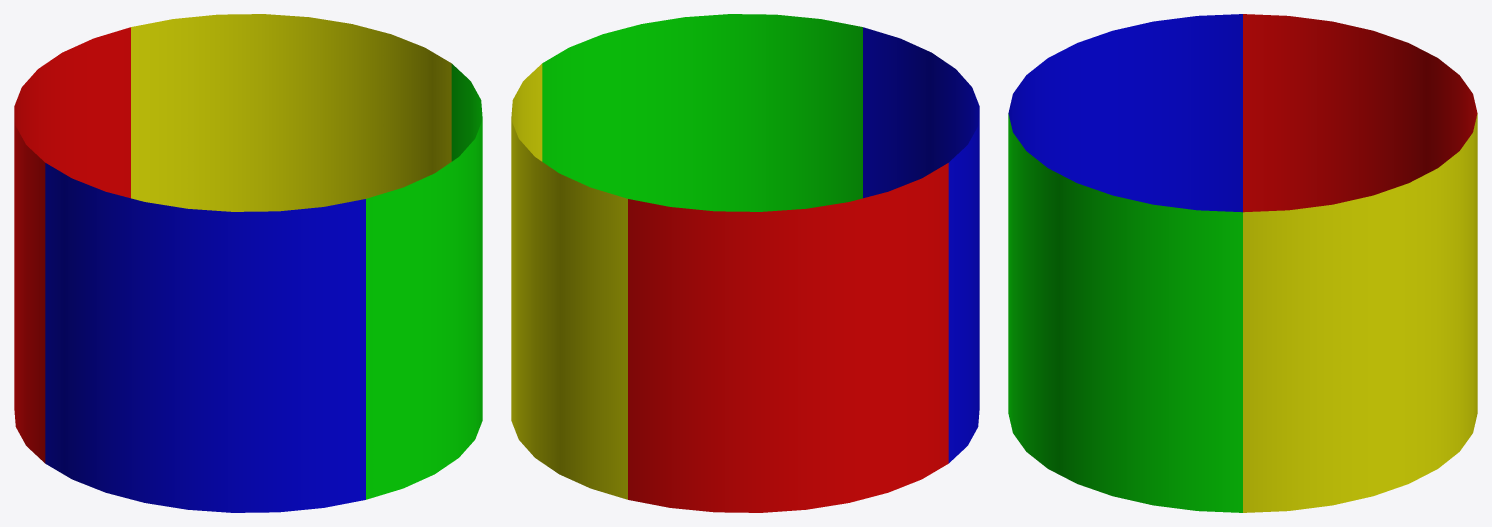
The model's file is tube-3-segmented-inside-normals.obj.
3 views of the same model, side by side, from view 1: azimuth 30°, elevation 25°; view 2: azimuth 150°, elevation 25°; view 3: azimuth 270°, elevation 25° (orthographic).
Parts seen in each view (by area): view 1: pCylinder1; view 2: pCylinder1; view 3: pCylinder1.
Part boxes in pixels (bbox=[...]): pCylinder1: bbox=[14, 14, 482, 512]; pCylinder1: bbox=[511, 14, 979, 512]; pCylinder1: bbox=[1008, 14, 1477, 512].
Size of the model in its own units: 2 by 1.41 by 2.
